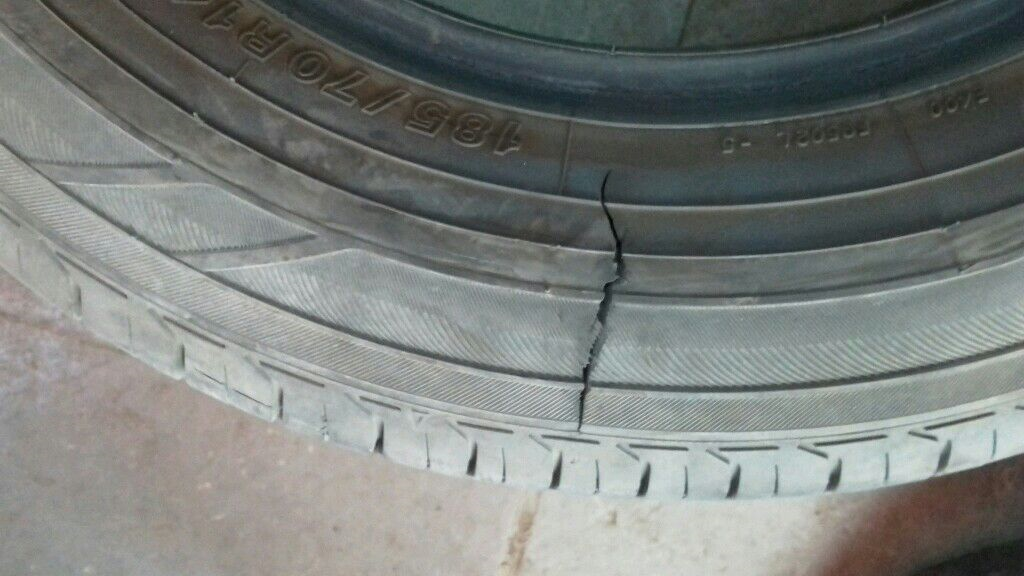cut: (573, 172, 633, 441)
